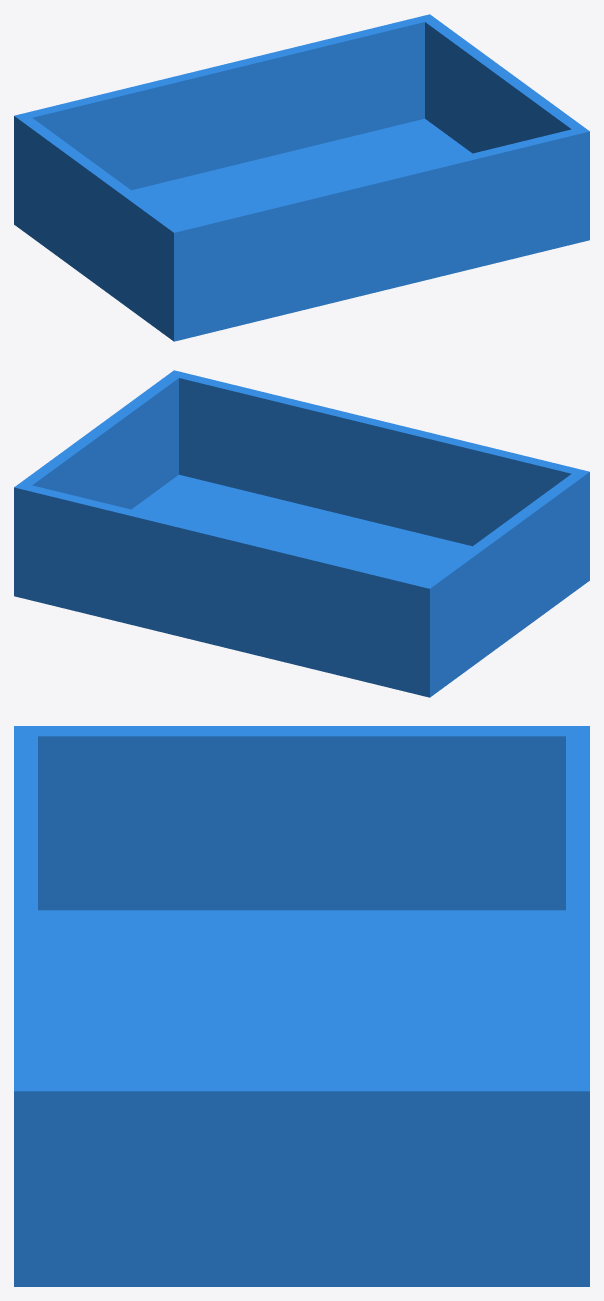
The model's file is humanoid-51.obj.
3 renders of one model, top to bottom at view 1: azimuth 30°, elevation 25°; view 2: azimuth 150°, elevation 25°; view 3: azimuth 270°, elevation 25°, orthographic. The views are drawn at different scales.
Visible parts, largest first — view 1: humanoid-51; view 2: humanoid-51; view 3: humanoid-51.
Part boxes in pixels (x1=…): humanoid-51: x1=14, y1=14, x2=589, y2=341; humanoid-51: x1=14, y1=370, x2=589, y2=697; humanoid-51: x1=14, y1=726, x2=589, y2=1286.
Size of the model in its own units: 36 by 9 by 24.
1 material, 1 textured.
